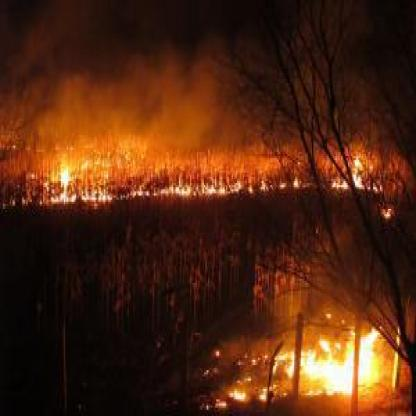fire: (11, 138, 395, 198), (199, 313, 398, 412)
